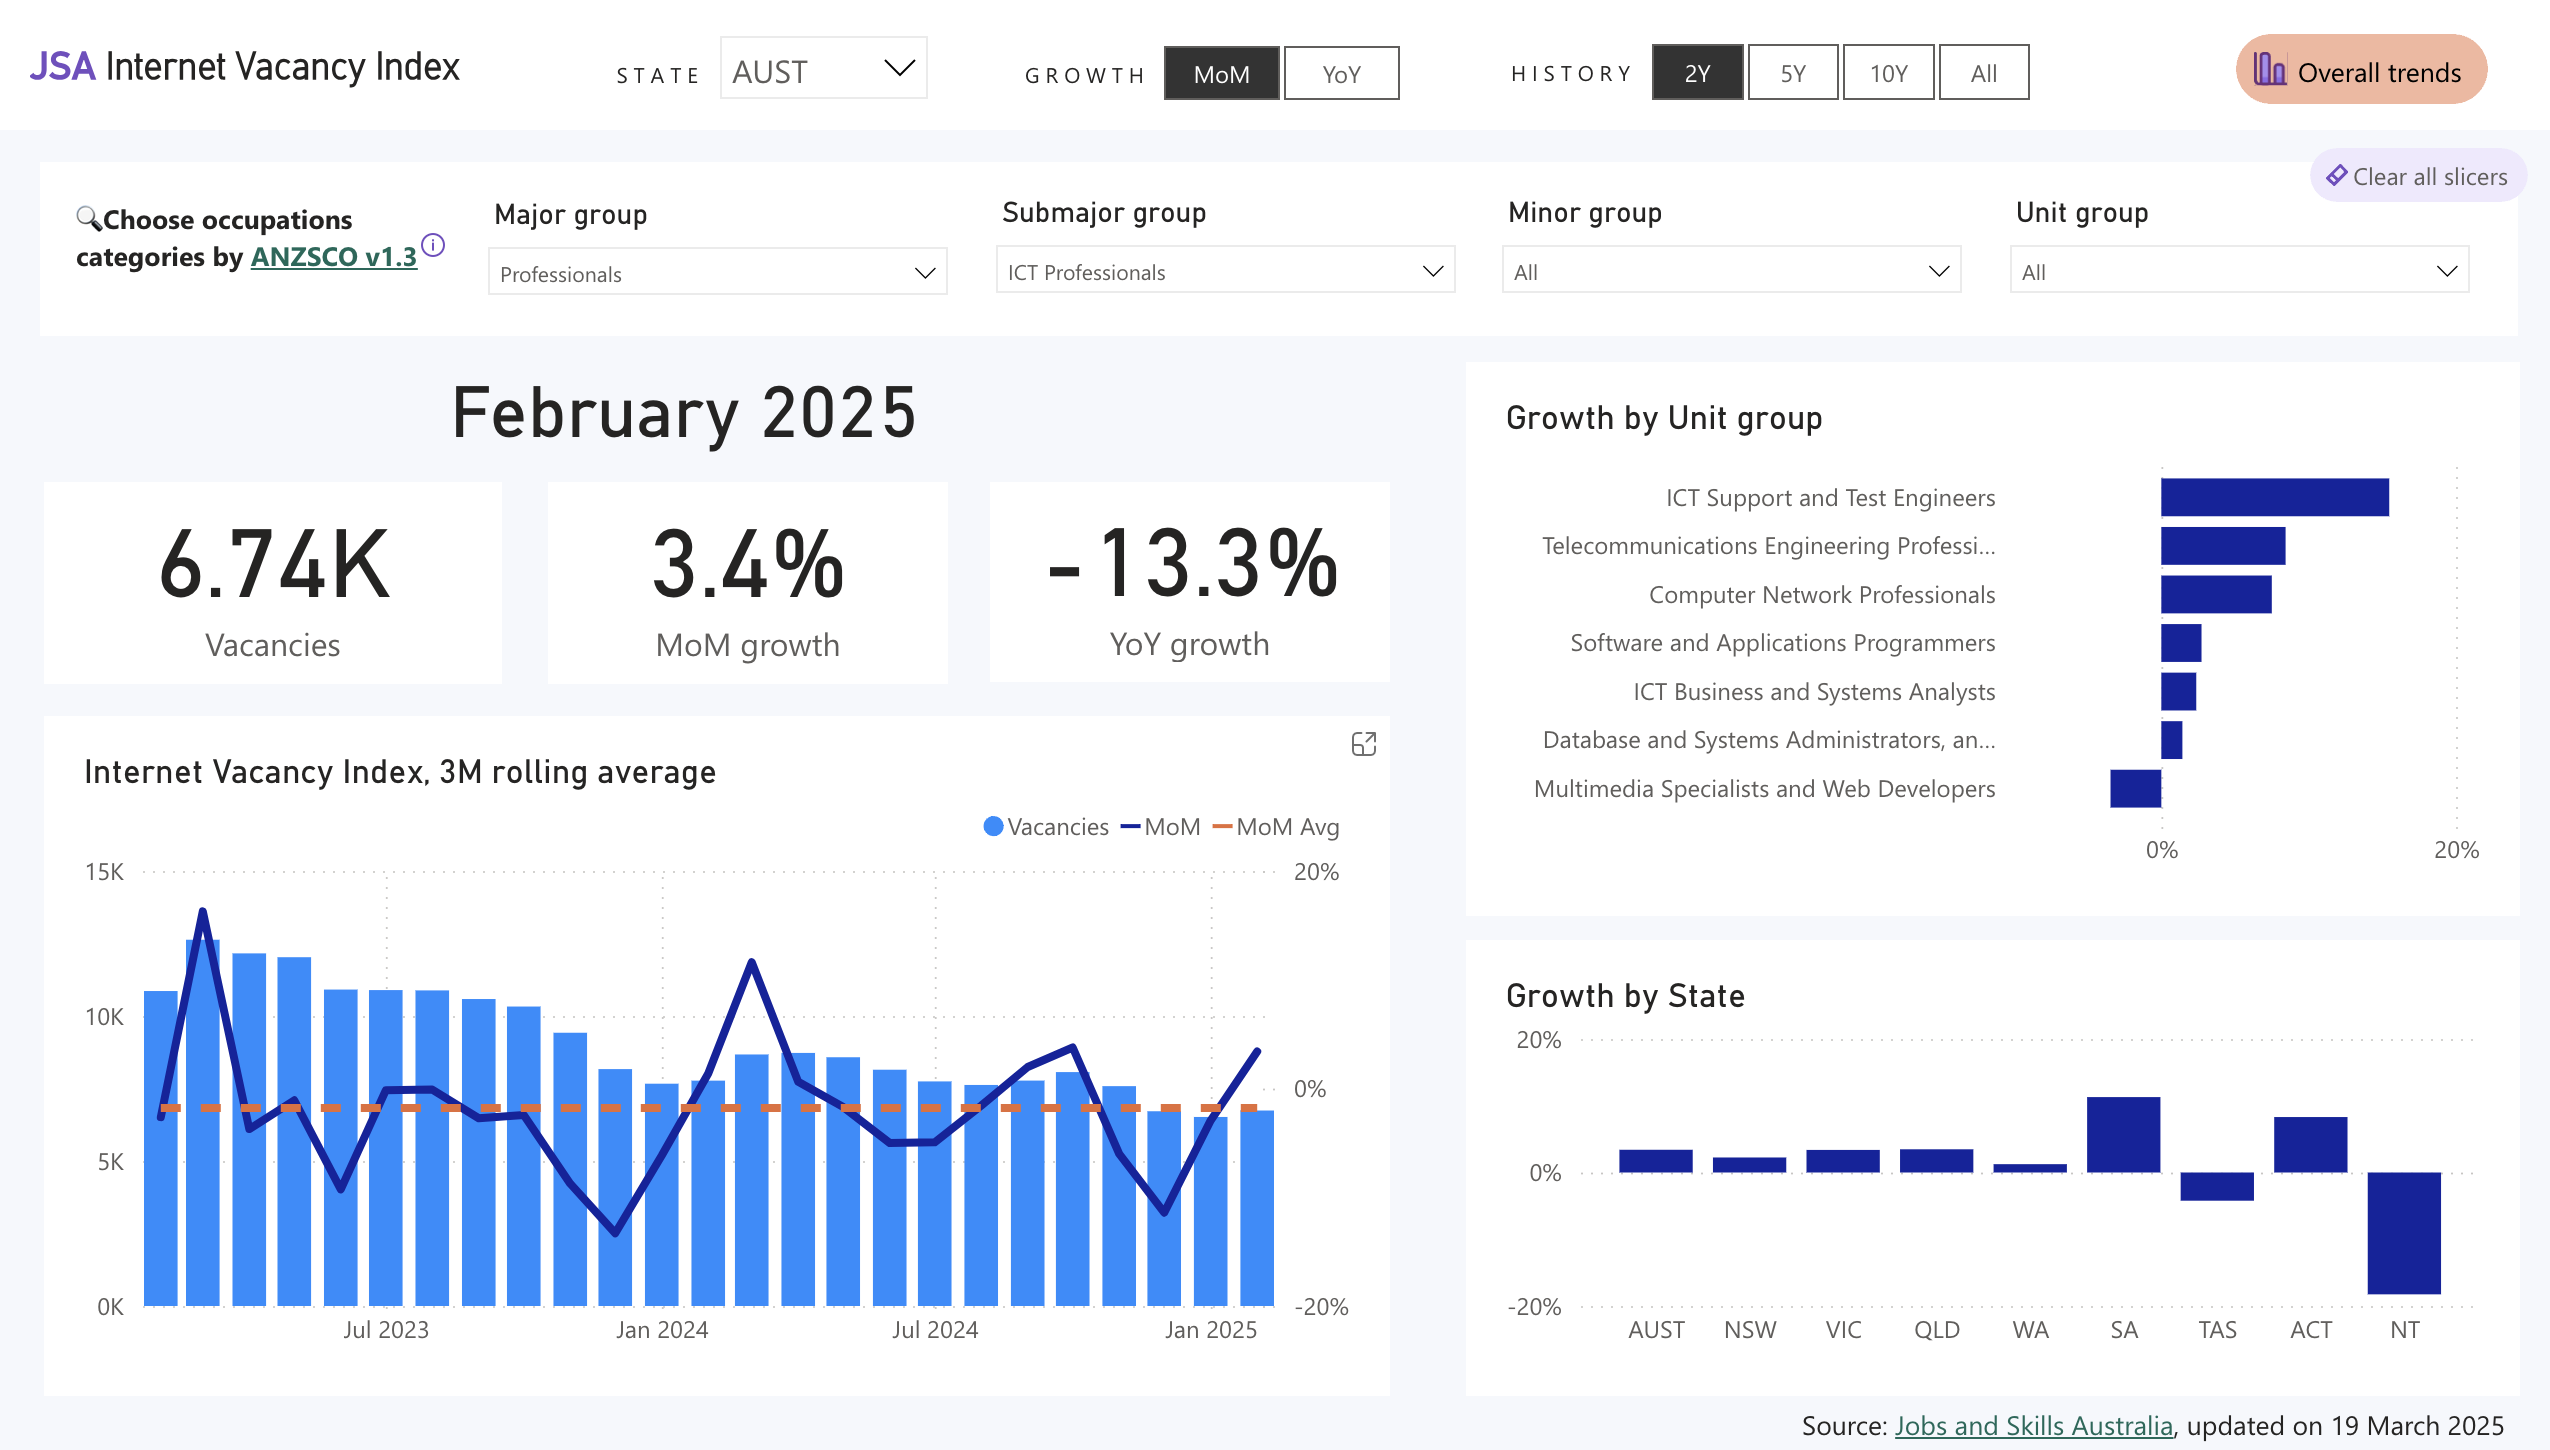

The dashboard page shown, as its layout file describes it:
{"tool":"powerbi","page":{"name":"Detailed","canvas":[1280,720],"ordinal":1},"visuals":[{"type":"shape","box":[0,0,1280.6,59.4],"z":0},{"type":"shape","box":[19.6,75.2,1239.1,86.5],"z":1000},{"type":"card","fields":{"Values":["Sum(vacancies.Value)"]},"box":[205,419.2,279.1,117.4],"z":2000},{"type":"card","fields":{"Values":["vacancies.MoM Unit"]},"box":[274,234.8,199.8,100.9],"z":3000},{"type":"card","fields":{"Values":["vacancies.YoY Unit"]},"box":[495.5,234.8,199.8,100],"z":4000},{"type":"slicer","fields":{"Values":["vacancies.Major group"]},"box":[233.8,88.6,250.3,59.7],"z":5000},{"type":"slicer","fields":{"Values":["vacancies.Submajor group"]},"box":[487.8,88.2,250,60],"z":6000},{"type":"slicer","fields":{"Values":["vacancies.Minor group"]},"box":[741.4,88.2,250,59.7],"z":7000},{"type":"slicer","fields":{"Values":["vacancies.Unit group"]},"box":[995,88.2,250,60],"z":8000},{"type":"lineStackedColumnComboChart","title":"Internet Vacancy Index, 3M rolling average","fields":{"Y2":["vacancies_unitgroup.MoM Unit","vacancies_unitgroup.MoM Avg unitgroup"],"Category":["vacancies.Date"],"Y":["Sum(vacancies.Value)"]},"box":[21.6,352.3,673.6,339.9],"z":9000},{"type":"clusteredColumnChart","title":"Growth by State","fields":{"Y":["vacancies_unitgroup.MoM Unit"],"Category":["vacancies_unitgroup.State"]},"box":[733.4,463.5,526.4,228.7],"z":10000},{"type":"actionButton","box":[1154.7,68,109.2,26.8],"z":11000},{"type":"clusteredBarChart","title":"Growth by Unit group","fields":{"Y":["vacancies_unitgroup.MoM Unit"],"Category":["vacancies.Unit group"]},"box":[733.4,175.1,526.4,277.1],"z":12000},{"type":"slicer","title":"sadasd","fields":{"Values":["vacancies_unitgroup.State"]},"box":[355.4,7.2,113.3,38.1],"z":13000},{"type":"slicer","fields":{"Values":["history.history"]},"box":[805.3,14.4,229.2,31.3],"z":14000},{"type":"textbox","box":[10.4,12.5,245.9,39.6],"z":15000},{"type":"textbox","box":[896.1,692.2,374.9,27.8],"z":16000},{"type":"actionButton","title":"Occupation search","box":[1117.6,11.3,126.7,35],"z":17000},{"type":"textbox","box":[733.4,15.5,86.5,34.4],"z":18000},{"type":"textbox","box":[275.1,15.6,79.2,32.3],"z":19000},{"type":"textbox","box":[33,88.6,185.4,63.9],"z":20000},{"type":"slicer","fields":{"Values":["changetype unit.changetype unit"]},"box":[561.4,15.5,157.6,30.9],"z":21000},{"type":"textbox","box":[479.3,15.6,97.9,33.3],"z":22000},{"type":"card","fields":{"Values":["Max(vacancies_unitgroup.Date)"]},"box":[189.5,167.9,305.9,56.7],"z":23000},{"type":"card","fields":{"Values":["Sum(vacancies_unitgroup.Value)"]},"box":[21.6,234.8,229.7,100.9],"z":24000},{"type":"actionButton","box":[210.1,110.2,20.6,12.4],"z":25000}]}

Visuals, with their boxes in screenshot pixels (x1, y1, x2, y2), scaled from the page's 1280x720 canvas onto the 2550x1450 screenshot:
shape: detection(0, 0, 2549, 120)
shape: detection(39, 151, 2508, 326)
card - Sum(vacancies.Value): detection(408, 844, 964, 1081)
card - vacancies.MoM Unit: detection(546, 473, 944, 676)
card - vacancies.YoY Unit: detection(987, 473, 1385, 674)
slicer - vacancies.Major group: detection(466, 178, 964, 299)
slicer - vacancies.Submajor group: detection(972, 178, 1470, 298)
slicer - vacancies.Minor group: detection(1477, 178, 1975, 298)
slicer - vacancies.Unit group: detection(1982, 178, 2480, 298)
"Internet Vacancy Index, 3M rolling average" lineStackedColumnComboChart: detection(43, 709, 1385, 1394)
"Growth by State" clusteredColumnChart: detection(1461, 933, 2510, 1394)
actionButton: detection(2300, 137, 2518, 191)
"Growth by Unit group" clusteredBarChart: detection(1461, 353, 2510, 911)
"sadasd" slicer: detection(708, 14, 934, 91)
slicer - history.history: detection(1604, 29, 2061, 92)
textbox: detection(21, 25, 511, 105)
textbox: detection(1785, 1394, 2532, 1449)
"Occupation search" actionButton: detection(2226, 23, 2479, 93)
textbox: detection(1461, 31, 1633, 100)
textbox: detection(548, 31, 706, 96)
textbox: detection(66, 178, 435, 307)
slicer - changetype unit.changetype unit: detection(1118, 31, 1432, 93)
textbox: detection(955, 31, 1150, 98)
card - Max(vacancies_unitgroup.Date): detection(378, 338, 987, 452)
card - Sum(vacancies_unitgroup.Value): detection(43, 473, 501, 676)
actionButton: detection(419, 222, 460, 247)
